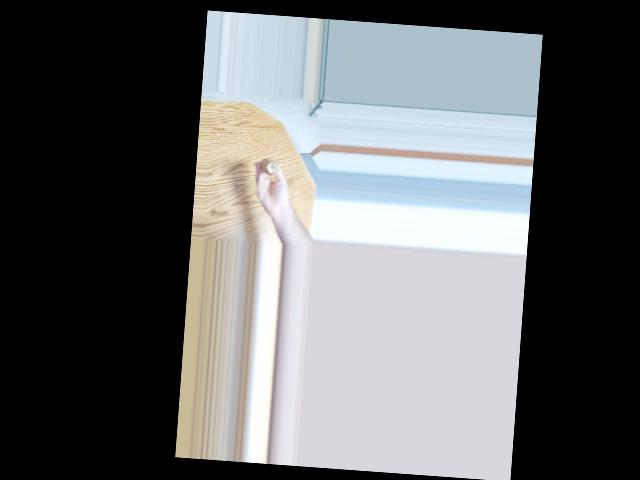sweet_potato: (264, 154, 281, 175)
